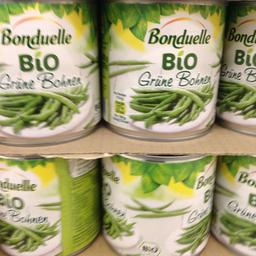beans: (101, 0, 224, 143), (0, 1, 96, 144), (98, 153, 215, 255), (0, 152, 95, 251)
